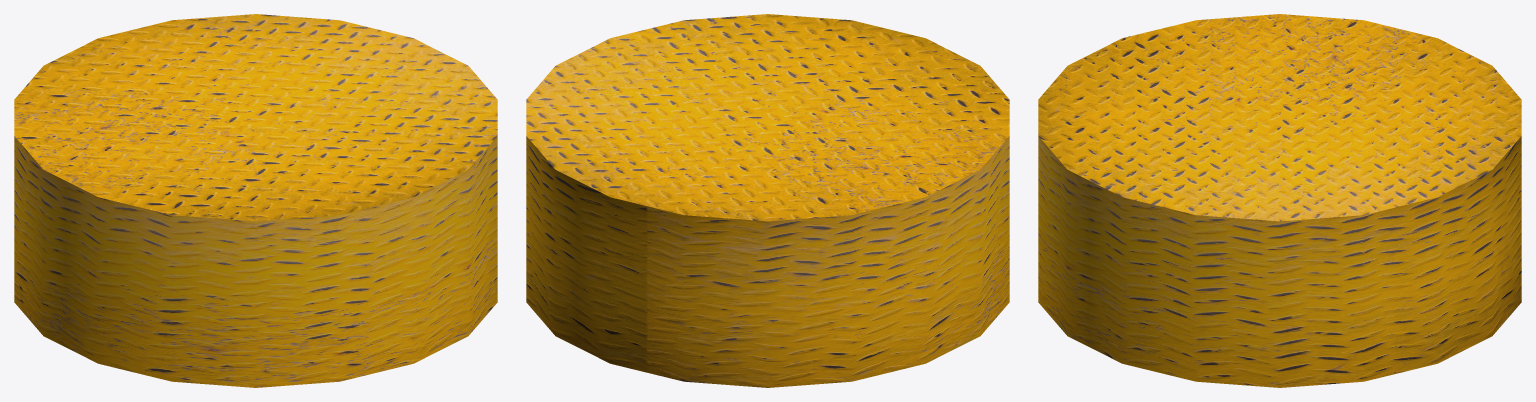
Rendered from ra_rotativeBase.obj.
3 renders of one model, left to right at view 1: azimuth 30°, elevation 25°; view 2: azimuth 150°, elevation 25°; view 3: azimuth 270°, elevation 25°, orthographic.
Visible parts, largest first — view 1: rotativeBase; view 2: rotativeBase; view 3: rotativeBase.
Boxes of the visible parts, x1,y1,x2,y2 form: rotativeBase: [14, 14, 497, 387]; rotativeBase: [526, 14, 1009, 387]; rotativeBase: [1038, 14, 1521, 387].
Size of the model in its own units: 28.84 by 10.79 by 28.4.
Materials: 1 (1 with a texture image).
